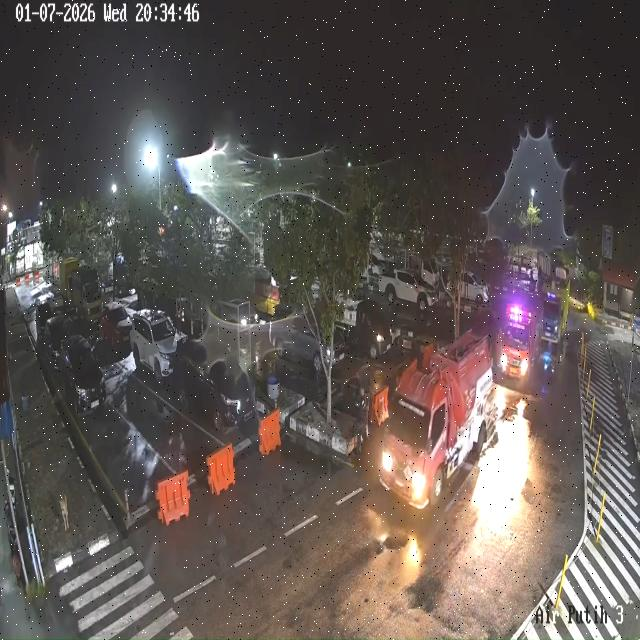Golongan IVA: (172, 338, 259, 434), (270, 305, 345, 375), (129, 310, 179, 386), (59, 335, 106, 415), (39, 315, 70, 371), (100, 301, 132, 347)
Golongan IVB: (378, 270, 438, 312)
Golongan VB: (380, 332, 497, 509), (496, 303, 542, 380), (540, 278, 570, 369), (65, 267, 103, 322)
